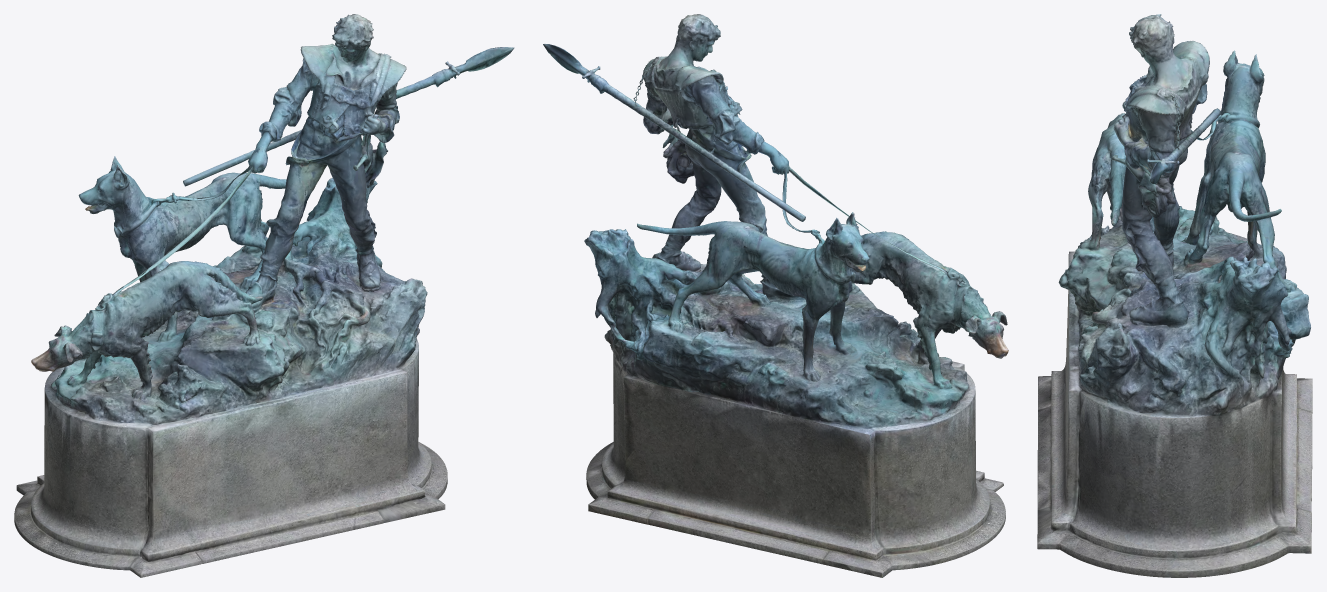
The model's file is statue_of_a_hunter.glb.
The picture shows the model from 3 angles, left to right: view 1: azimuth 30°, elevation 25°; view 2: azimuth 150°, elevation 25°; view 3: azimuth 270°, elevation 25°; orthographic projection. The views are drawn at different scales.
Parts seen in each view (by area): view 1: Object_2; view 2: Object_2; view 3: Object_2.
Part boxes in pixels (x1=…): Object_2: x1=14, y1=14, x2=514, y2=577; Object_2: x1=543, y1=14, x2=1008, y2=577; Object_2: x1=1037, y1=14, x2=1312, y2=577.
Size of the model in its own units: 3.41 by 3.17 by 1.54.
1 material, 1 textured.
